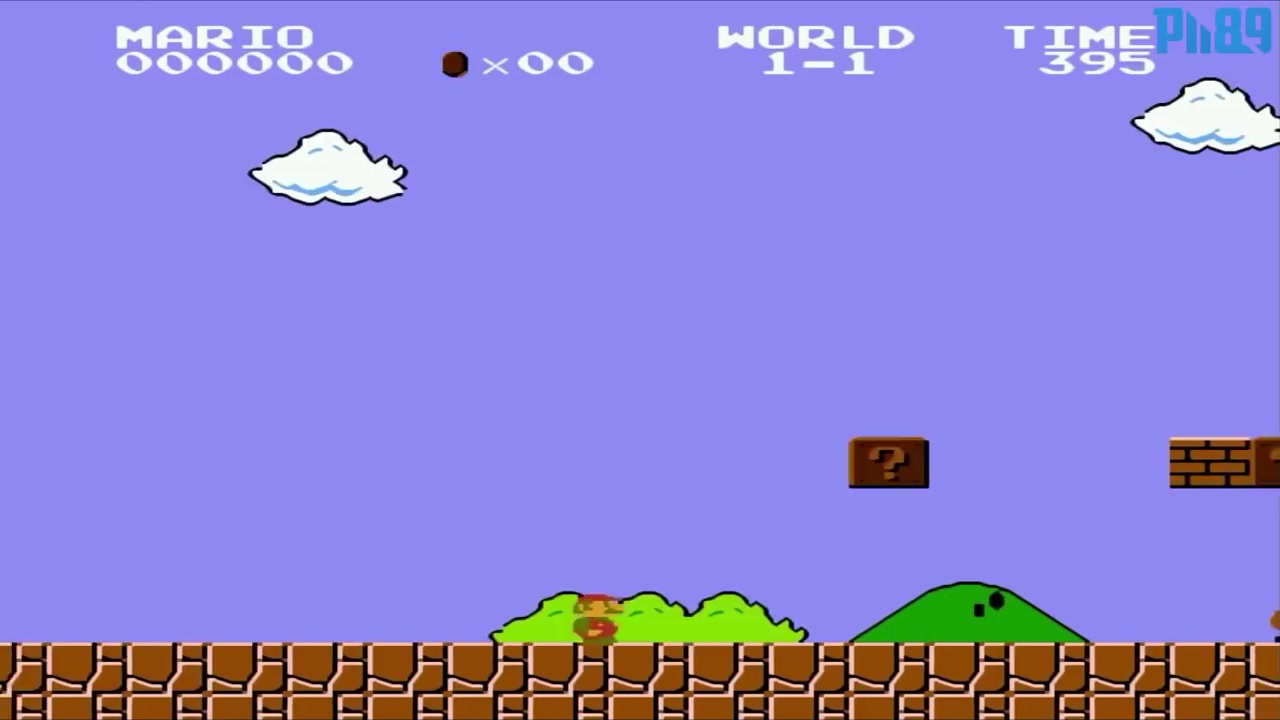mario: (563, 587, 626, 647)
